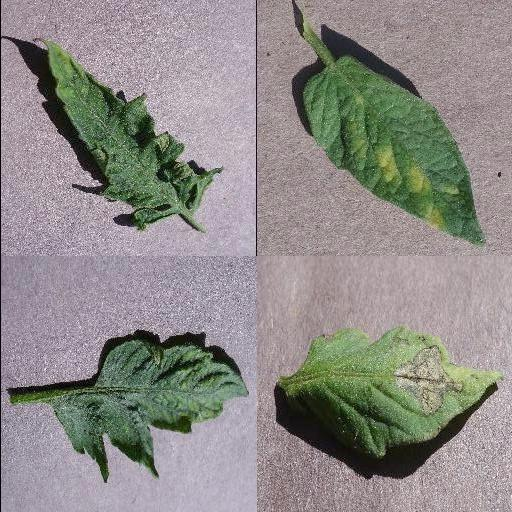Early Blight: (278, 329, 504, 460)
Leaf Mold: (299, 58, 487, 246)
Mosaic Virus: (34, 35, 224, 233), (46, 334, 250, 484)
